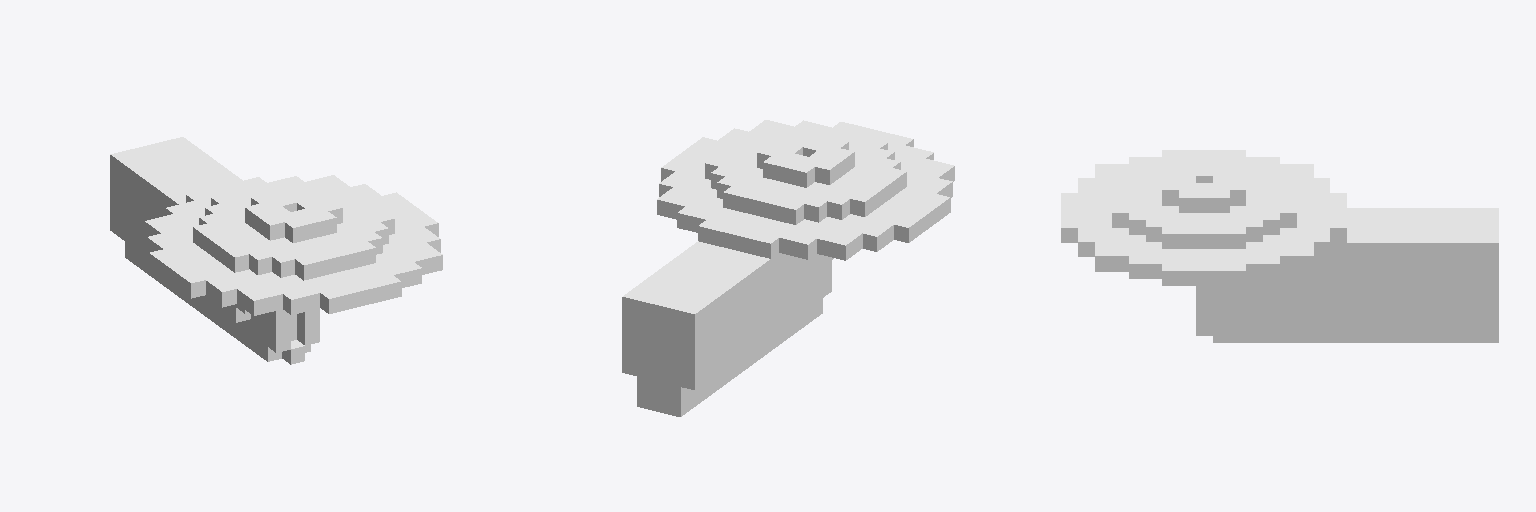
File: BaseCamara.obj
3 views of the same model, side by side, from view 1: azimuth 30°, elevation 25°; view 2: azimuth 150°, elevation 25°; view 3: azimuth 270°, elevation 25° (orthographic).
Visible parts, largest first — view 1: BaseCamara; view 2: BaseCamara; view 3: BaseCamara.
Boxes of the visible parts, <box> form: BaseCamara: <box>110,137,442,364</box>; BaseCamara: <box>622,120,954,416</box>; BaseCamara: <box>1061,150,1498,342</box>.
Size of the model in its own units: 17 by 10 by 26.